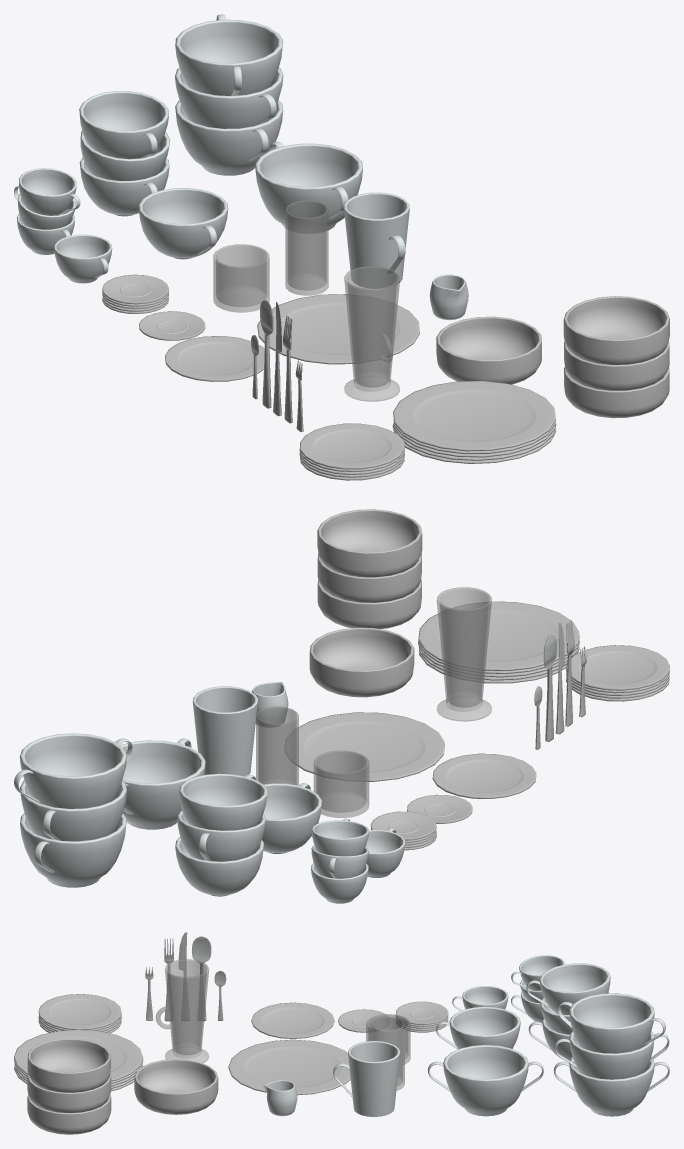
Rendered from modular_crockery_and_cutlery_set.glb.
3 renders of one model, top to bottom at view 1: azimuth 30°, elevation 25°; view 2: azimuth 150°, elevation 25°; view 3: azimuth 270°, elevation 25°, orthographic. The views are drawn at different scales.
Parts seen in each view (by area): view 1: Cup_XL_Stack, Bowl_Stack, Plate_L_Stack, Cup_L_Stack, Plate_L, Cup_XL, Glass_Latte, Bowl, Mug, Cup_L, Plate_S_Stack, Cup_S_Stack (+10 smaller); view 2: Cup_XL_Stack, Bowl_Stack, Plate_L_Stack, Cup_L_Stack, Plate_L, Glass_Latte, Bowl, Cup_XL, Mug, Plate_S_Stack, Cup_S_Stack, Plate_S (+10 smaller); view 3: Cup_XL_Stack, Bowl_Stack, Cup_XL, Plate_L, Glass_Latte, Bowl, Cup_L_Stack, Mug, Plate_S_Stack, Plate_L_Stack, Cup_L, Plate_S (+10 smaller).
Boxes of the visible parts, left/top/right/bottom form: Cup_XL_Stack: left=175, top=14, right=283, bottom=175; Bowl_Stack: left=563, top=296, right=669, bottom=418; Plate_L_Stack: left=392, top=381, right=556, bottom=463; Cup_L_Stack: left=79, top=91, right=169, bottom=216; Plate_L: left=257, top=294, right=419, bottom=364; Cup_XL: left=255, top=141, right=362, bottom=233; Glass_Latte: left=344, top=266, right=399, bottom=401; Bowl: left=436, top=316, right=541, bottom=384; Mug: left=343, top=192, right=409, bottom=288; Cup_L: left=138, top=188, right=228, bottom=259; Plate_S_Stack: left=299, top=423, right=404, bottom=480; Cup_S_Stack: left=14, top=168, right=80, bottom=254; Cup_XL_Stack: left=14, top=733, right=132, bottom=887; Bowl_Stack: left=317, top=509, right=422, bottom=629; Plate_L_Stack: left=418, top=601, right=579, bottom=683; Cup_L_Stack: left=175, top=773, right=267, bottom=896; Plate_L: left=285, top=712, right=444, bottom=781; Glass_Latte: left=436, top=587, right=491, bottom=721; Bowl: left=309, top=627, right=414, bottom=697; Cup_XL: left=120, top=738, right=205, bottom=829; Mug: left=192, top=686, right=258, bottom=776; Plate_S_Stack: left=566, top=645, right=669, bottom=701; Cup_S_Stack: left=311, top=818, right=369, bottom=903; Plate_S: left=432, top=753, right=536, bottom=798; Cup_XL_Stack: left=553, top=993, right=669, bottom=1116; Bowl_Stack: left=27, top=1038, right=111, bottom=1134; Cup_XL: left=428, top=1045, right=543, bottom=1116; Plate_L: left=228, top=1039, right=350, bottom=1095; Glass_Latte: left=155, top=959, right=209, bottom=1062; Bowl: left=134, top=1059, right=218, bottom=1114; Cup_L_Stack: left=526, top=963, right=619, bottom=1060; Mug: left=333, top=1041, right=400, bottom=1116; Plate_S_Stack: left=38, top=994, right=121, bottom=1033; Plate_L_Stack: left=14, top=1029, right=143, bottom=1091; Cup_L: left=436, top=1006, right=520, bottom=1049; Plate_S: left=251, top=1002, right=334, bottom=1038.
Size of the model in its own units: 0.4188 by 0.1438 by 0.8624.
4 materials, 1 textured.
